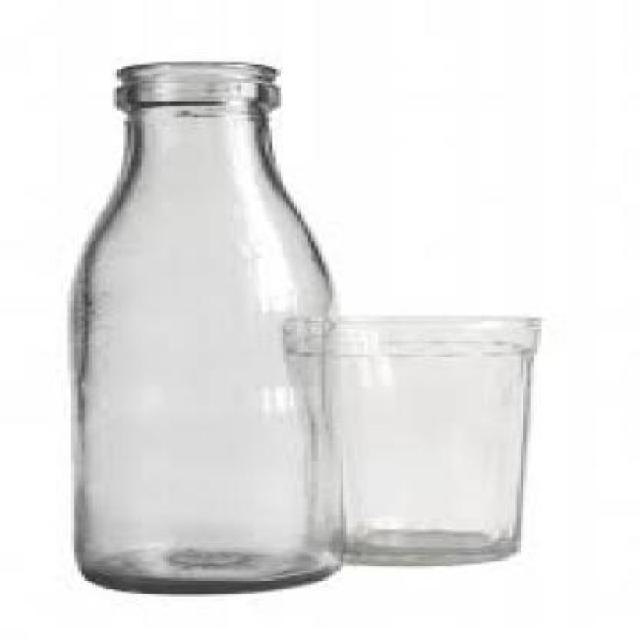kaca: (68, 57, 343, 594), (277, 314, 538, 555)
